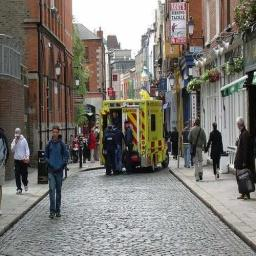Ambulance: (100, 99, 168, 170)
